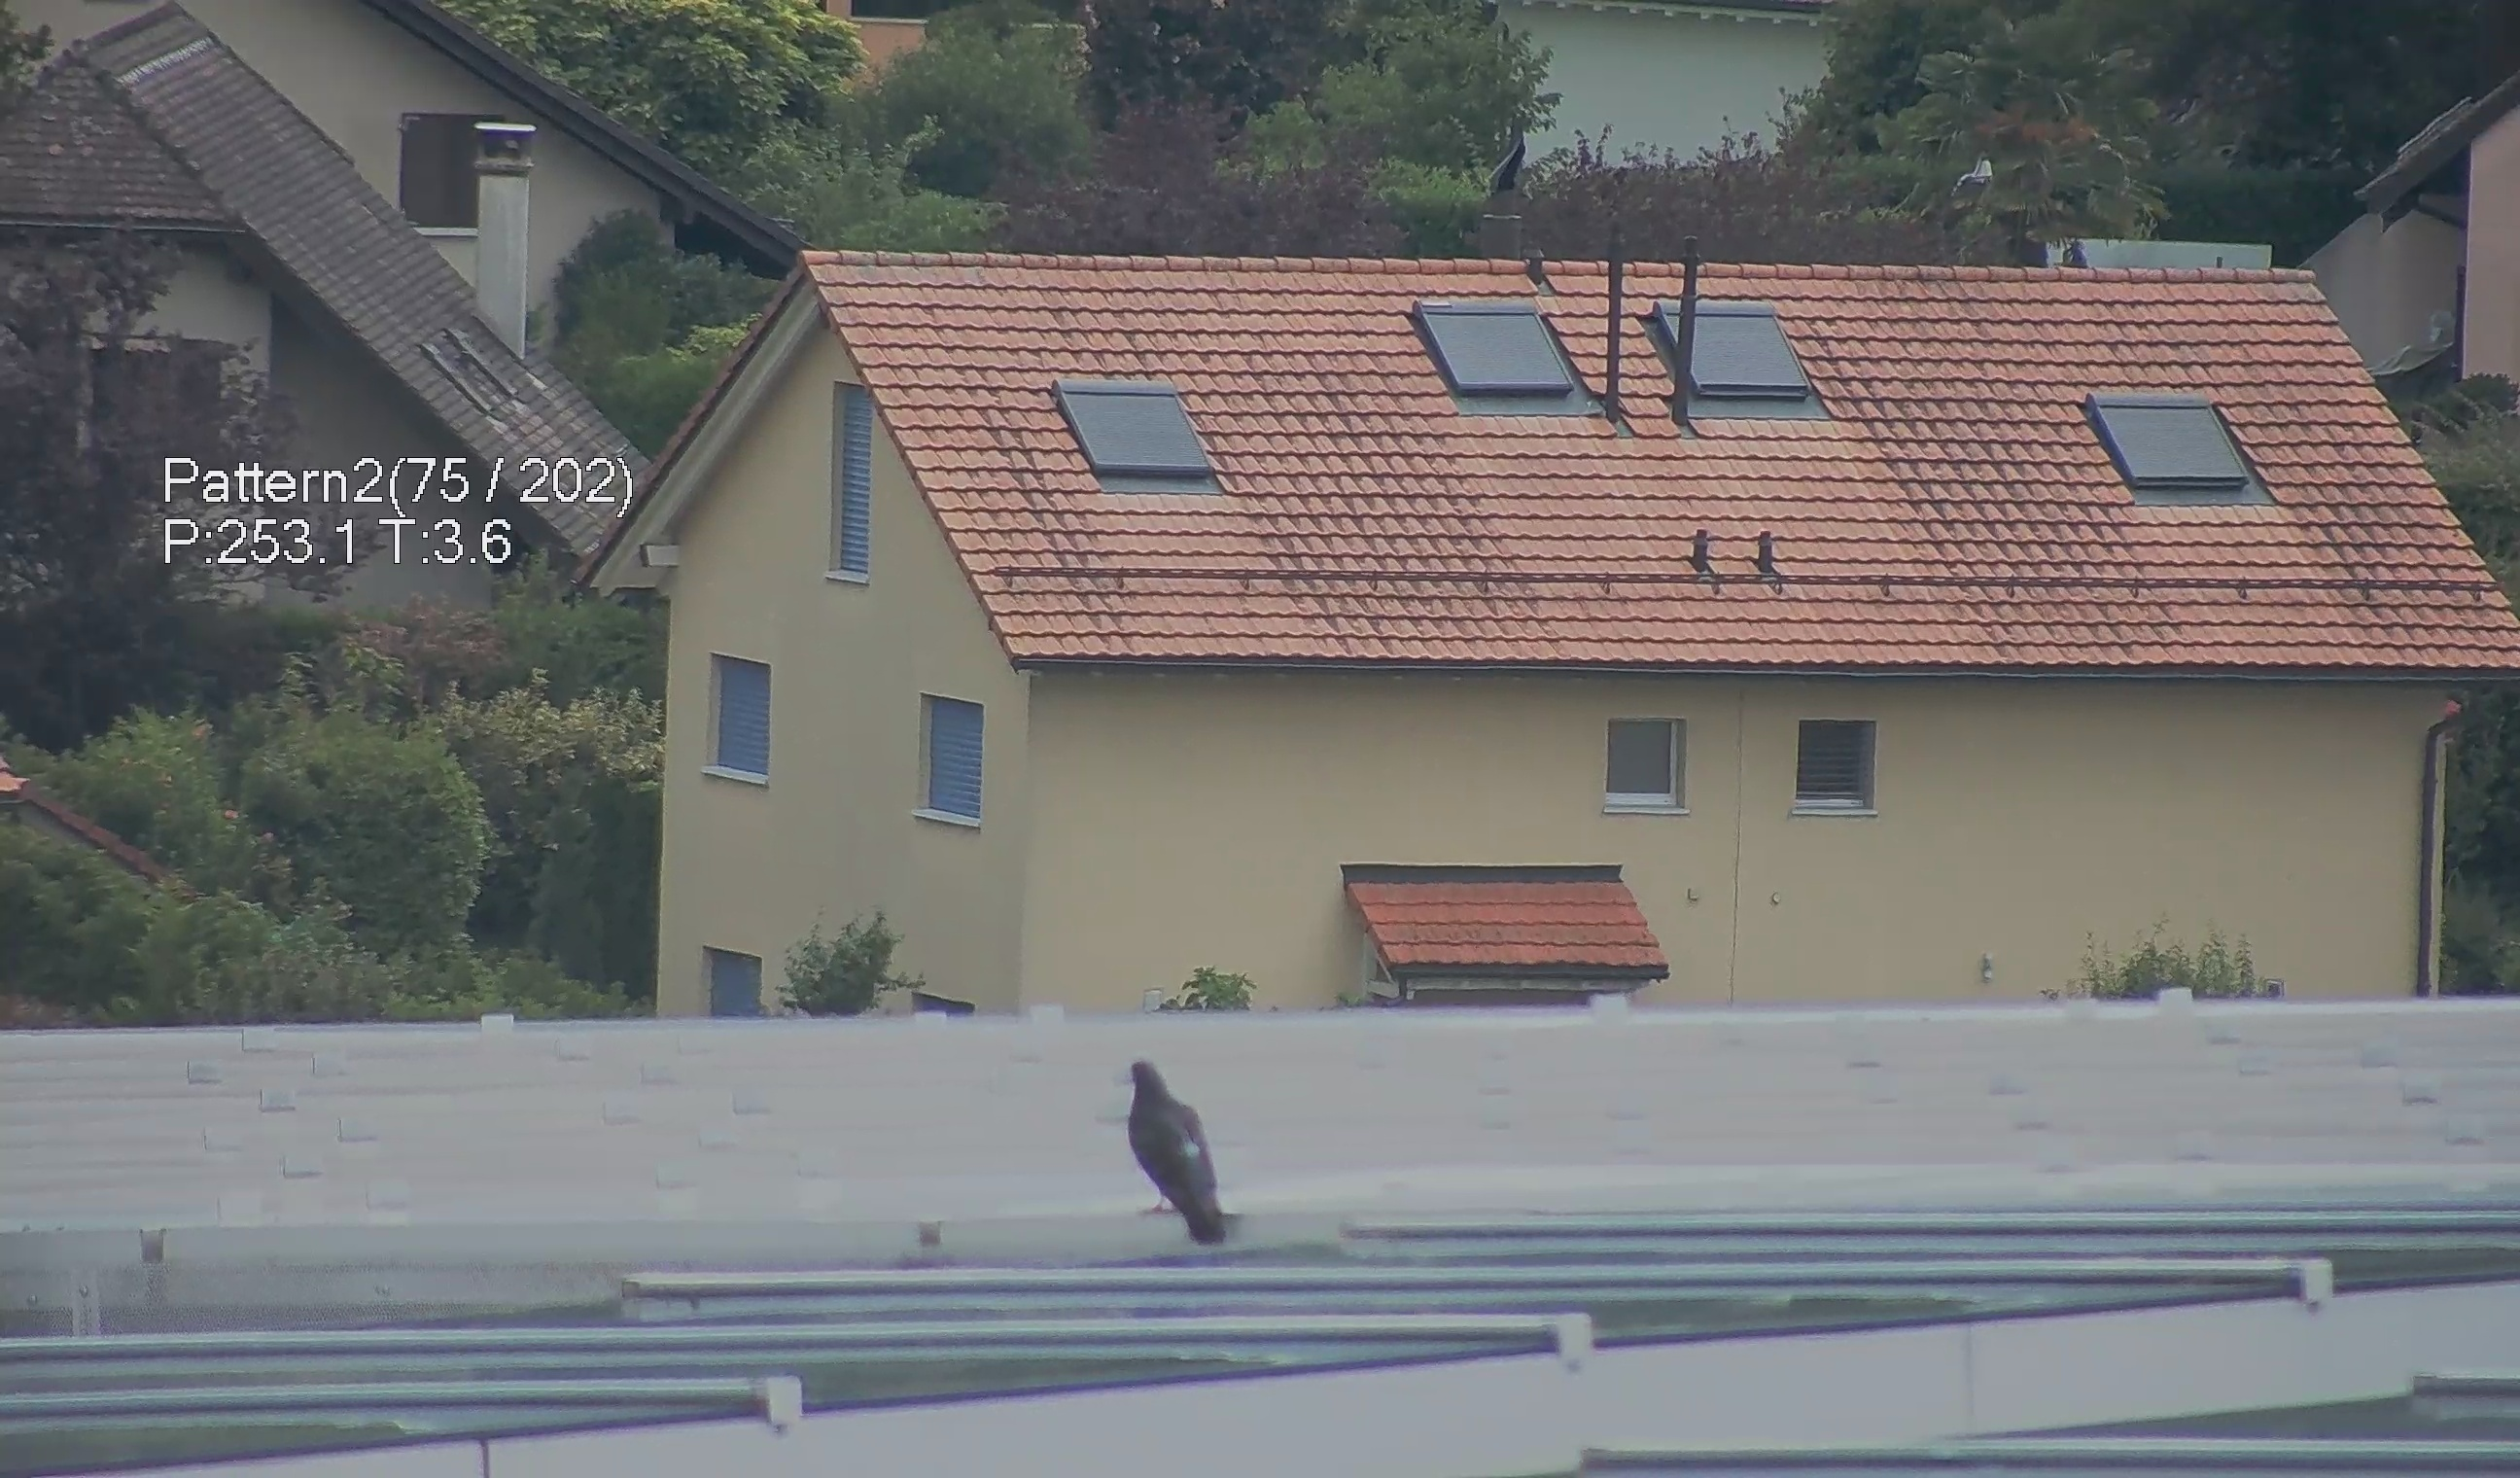Pigeon: (1096, 1059, 1242, 1255)
